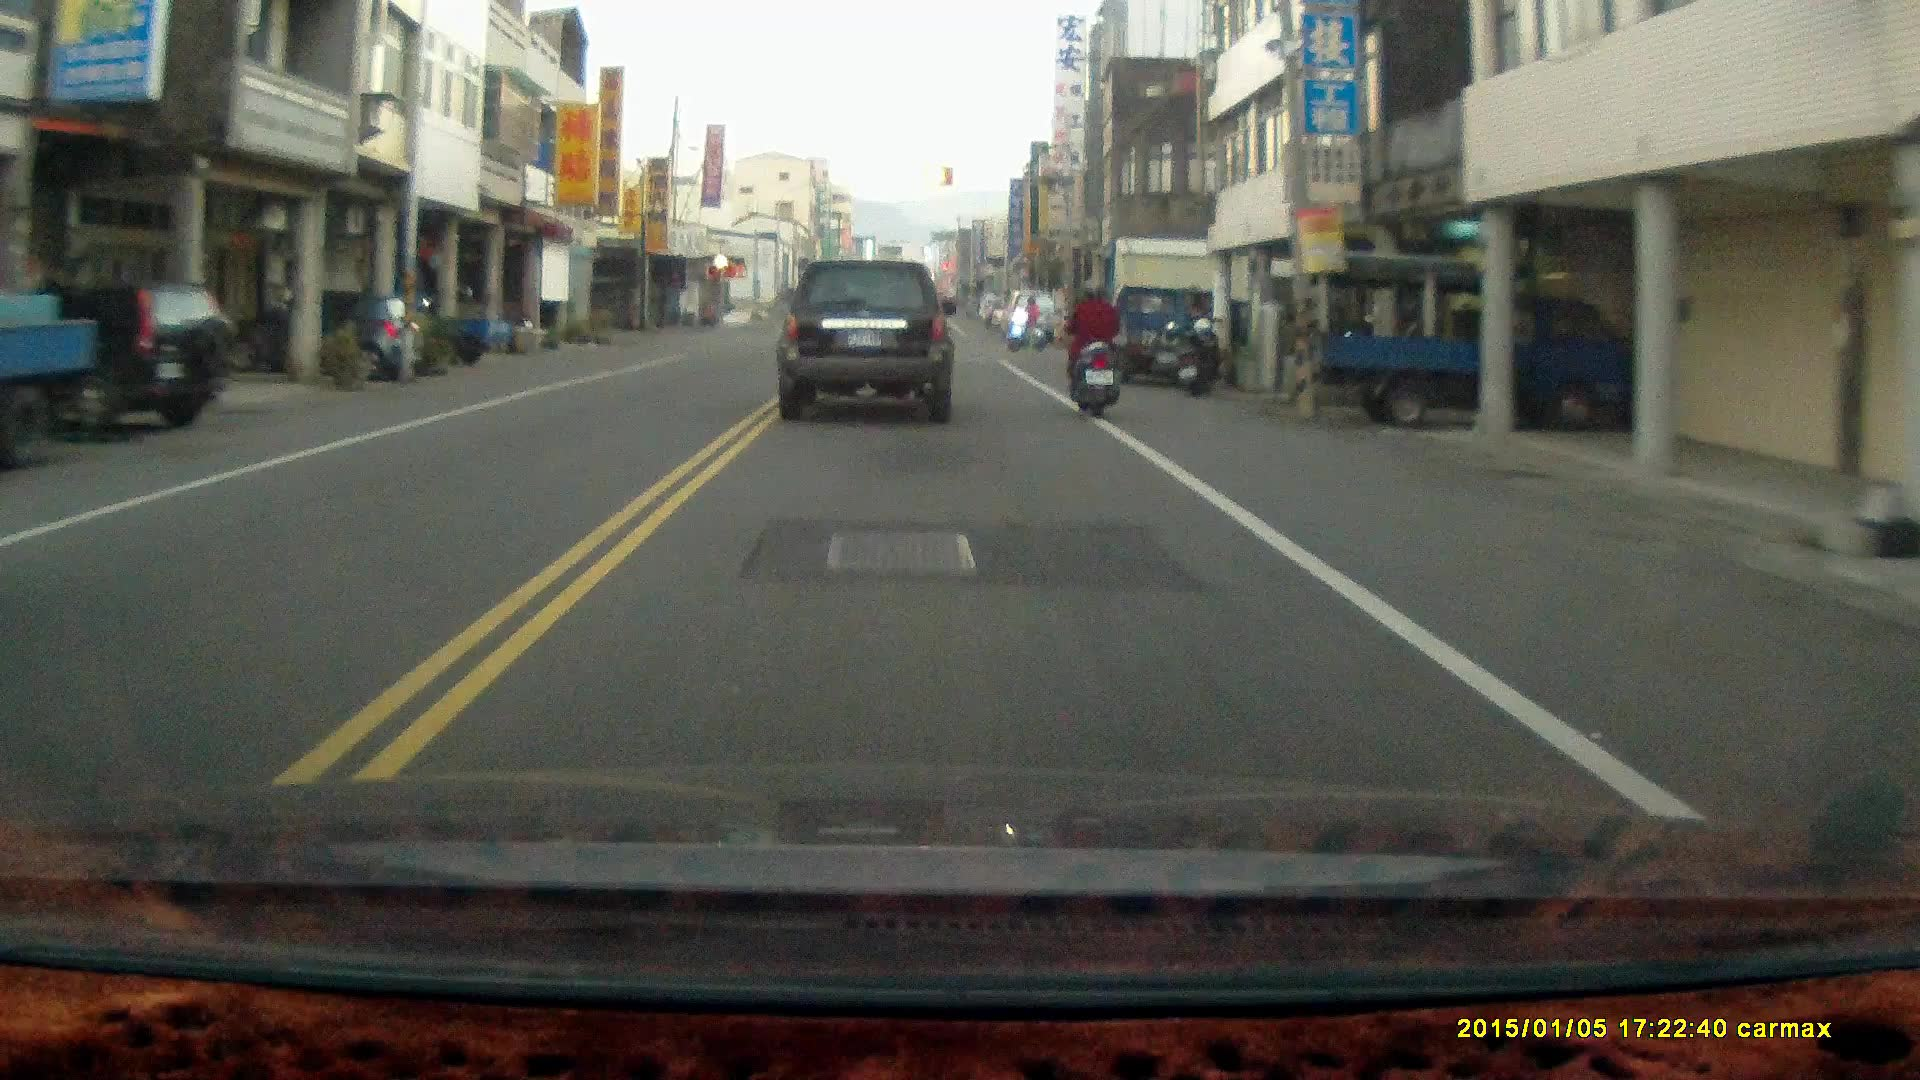rider: (1067, 272, 1122, 422), (1002, 294, 1043, 348)
vehicle: (1310, 251, 1644, 429), (2, 277, 236, 436), (775, 256, 957, 427), (230, 287, 422, 380), (1094, 275, 1217, 381)
